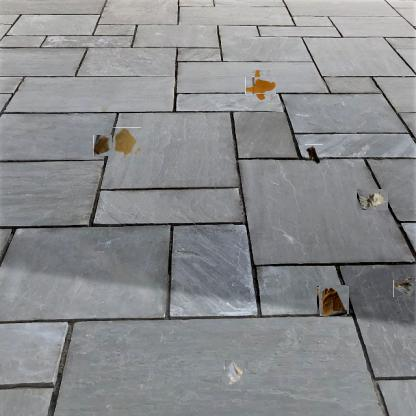dirty: (318, 285, 348, 315), (356, 188, 388, 210), (224, 360, 246, 384), (395, 277, 416, 299), (93, 134, 112, 156), (306, 144, 324, 165)
liquid: (113, 127, 141, 158), (249, 73, 273, 98)
